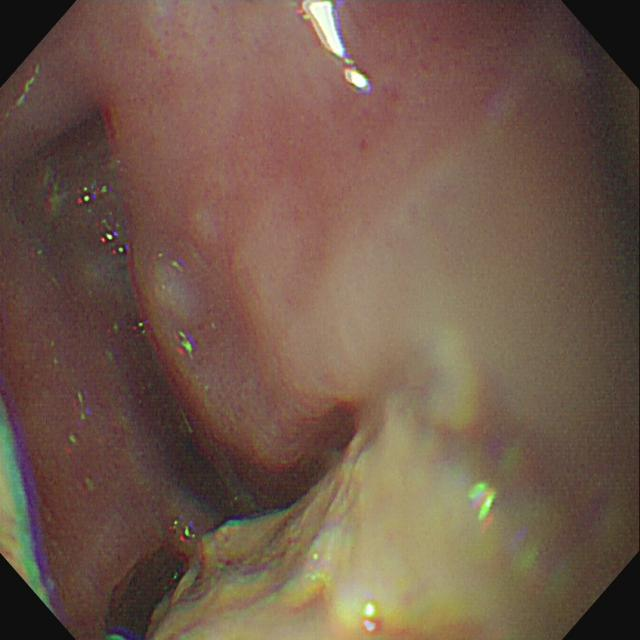B: (142, 464, 373, 640)
U: (297, 2, 372, 97), (468, 483, 497, 522), (101, 226, 125, 258), (363, 601, 383, 636), (77, 184, 109, 205), (175, 329, 193, 359), (173, 522, 195, 543)
